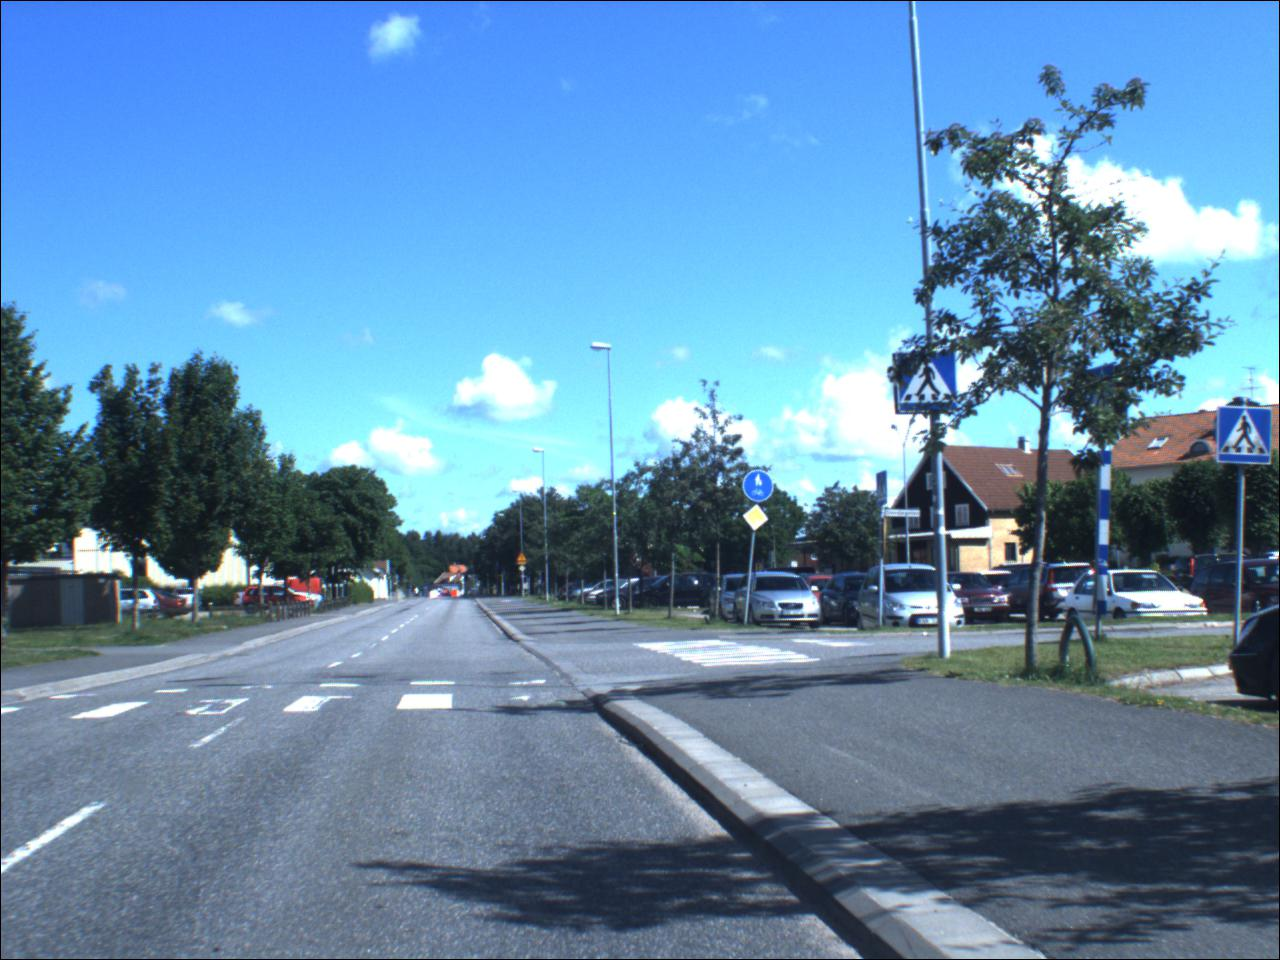PEDESTRIAN_CROSSING: (895, 354, 965, 414), (1218, 403, 1275, 468)
PRIORITY_ROAD: (743, 507, 772, 533), (521, 567, 528, 575)
WARNING: (517, 553, 530, 565)
